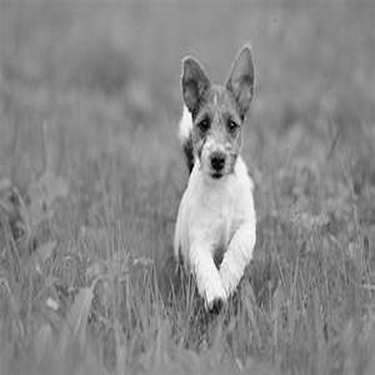dog: (133, 31, 276, 323)
